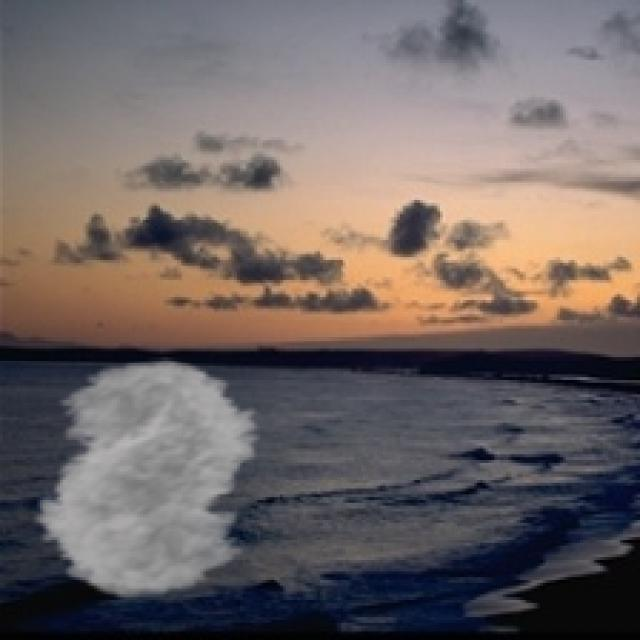smoke: (14, 357, 289, 600)
